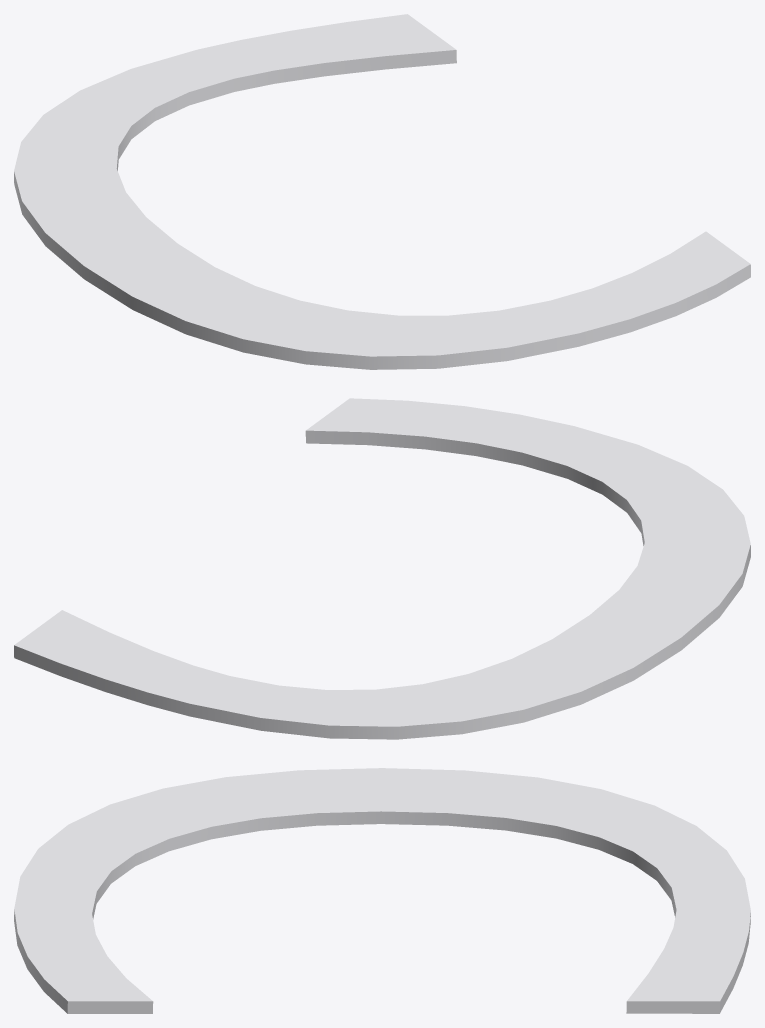
File: Tabla2.obj
3 views of the same model, one above another, from view 1: azimuth 30°, elevation 25°; view 2: azimuth 150°, elevation 25°; view 3: azimuth 270°, elevation 25° (orthographic). The views are drawn at different scales.
Visible parts, largest first — view 1: pasted__typeMesh1 group; view 2: pasted__typeMesh1 group; view 3: pasted__typeMesh1 group.
Part boxes in pixels (box(x1,y1,x2,y2)): pasted__typeMesh1 group: box(14, 14, 750, 369); pasted__typeMesh1 group: box(14, 398, 750, 739); pasted__typeMesh1 group: box(14, 768, 750, 1013).
Bounding box in the file's own units: 2.56 × 0.0663 × 3.41.
Materials: 1 (1 with a texture image).
